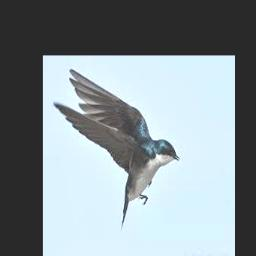Swallow: (53, 68, 179, 229)
